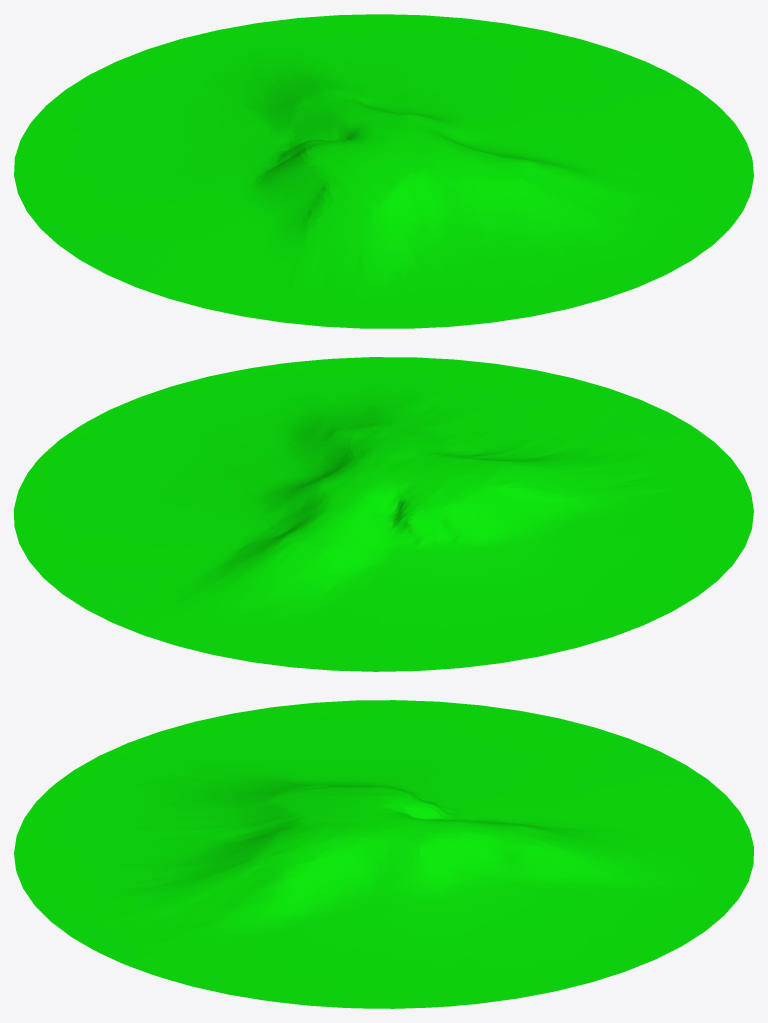
File: island_coral_medium_G.fbx
3 renders of one model, top to bottom at view 1: azimuth 30°, elevation 25°; view 2: azimuth 150°, elevation 25°; view 3: azimuth 270°, elevation 25°, orthographic.
Visible parts, largest first — view 1: island_coral_medium_G; view 2: island_coral_medium_G; view 3: island_coral_medium_G.
Part boxes in pixels (bbox=[...]): island_coral_medium_G: bbox=[14, 14, 753, 328]; island_coral_medium_G: bbox=[14, 357, 753, 671]; island_coral_medium_G: bbox=[14, 700, 753, 1008].
Size of the model in its own units: 10081 by 554 by 10212.
